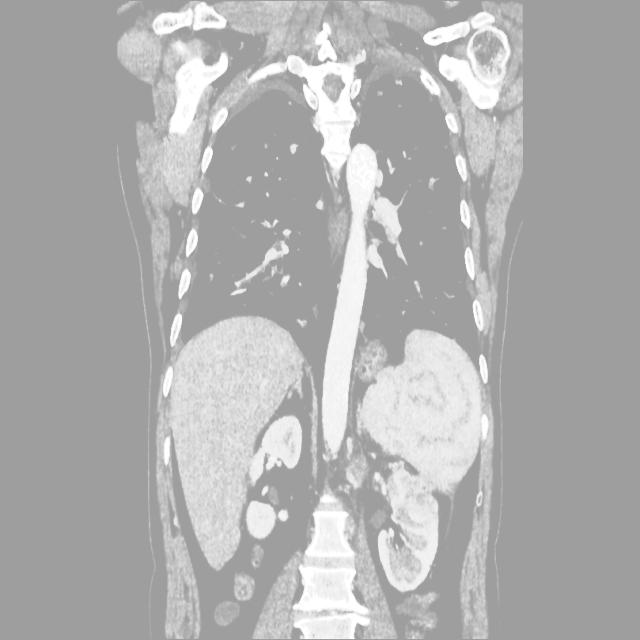TUMOR: (168, 327, 513, 545)
